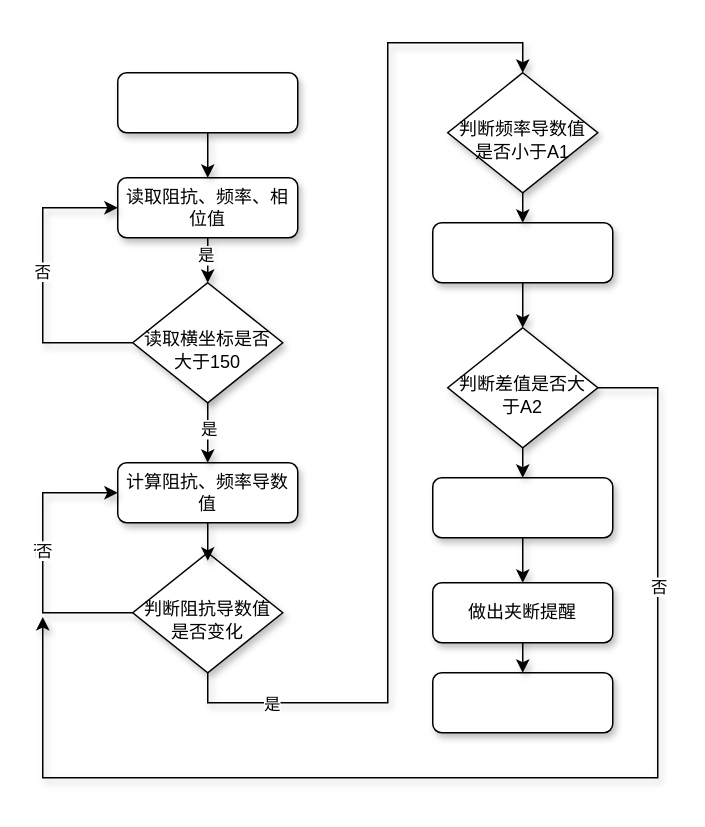
This 705x827 diagram has some shape labels left out. The shapes that lost their labels are listed below. From the top down, each one's centre as x and y in pixels, then its label:
At point (208, 104): "开始".
At point (523, 254): "计算该点前第X点的纵坐标之差".
At point (523, 509): "等待阻抗下降完成".
At point (523, 704): "结束".
